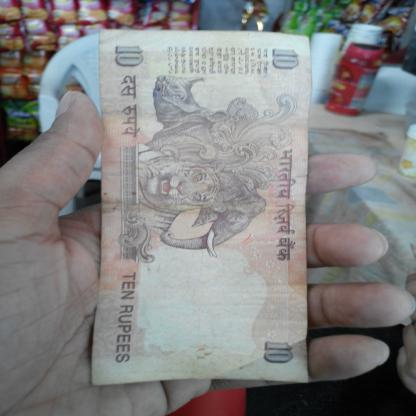Old10Back: (89, 27, 313, 388)
